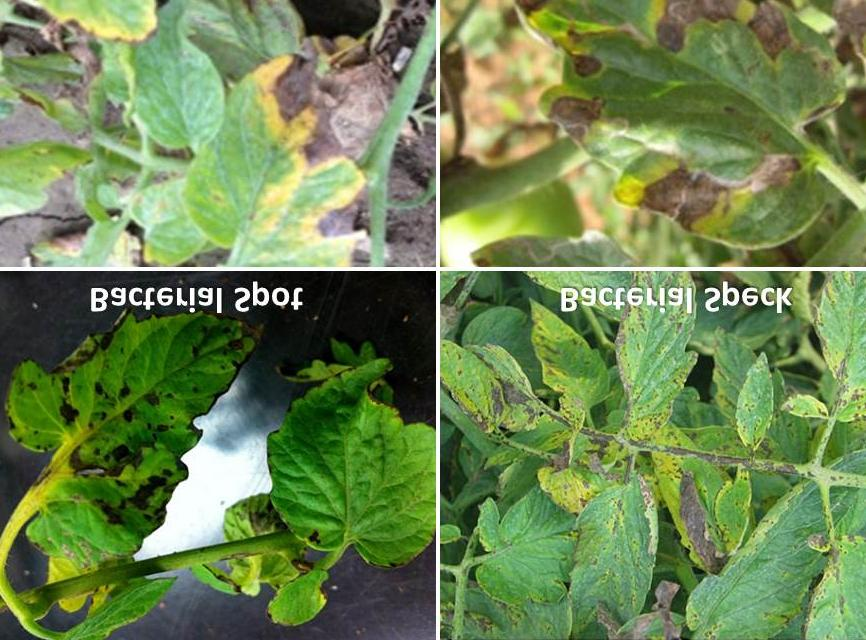Tomato Early blight leaf: (1, 0, 382, 256)
Tomato leaf bacterial spot: (1, 290, 258, 558), (239, 329, 434, 560), (689, 434, 866, 636), (555, 458, 669, 636), (598, 276, 705, 464), (774, 279, 866, 432), (723, 354, 794, 471), (708, 473, 759, 564)
